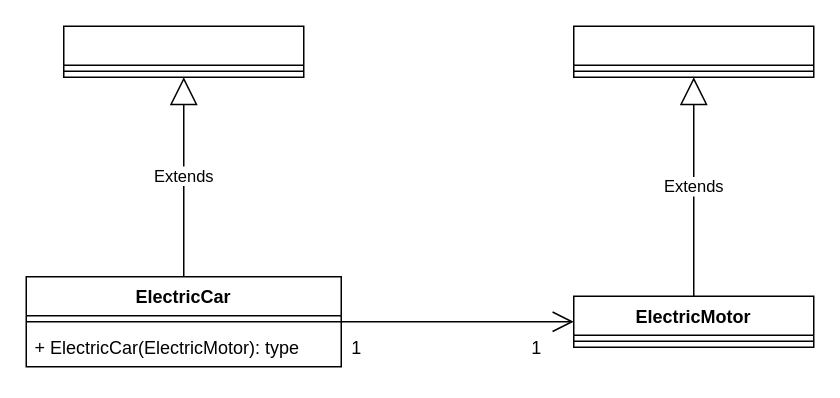
Some shapes in this 840 by 398 pixel diagram are drawn without their labels. Here are the shapes that lost their labels. From the top down, the centre of each, then its label:
At point (183, 51): "Car".
At point (693, 51): "Engine".
